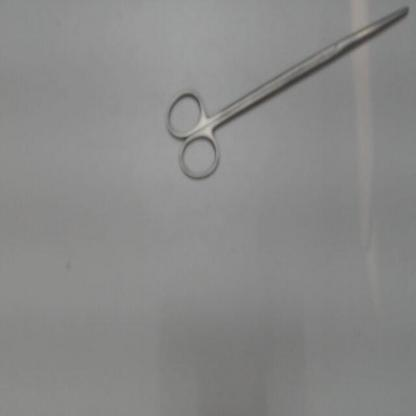9 Metzenbaum Scissors: (160, 4, 412, 188)
